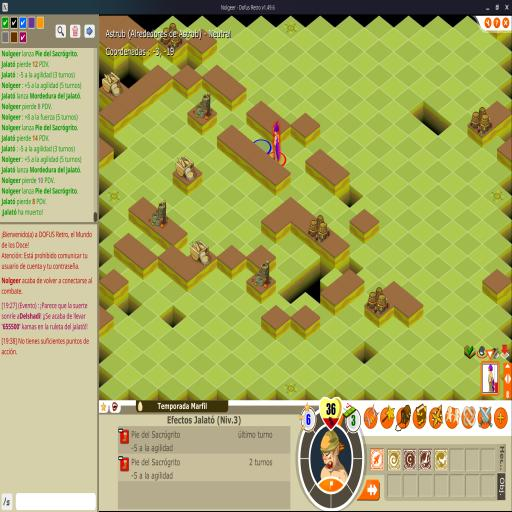Personaje: (272, 121, 282, 161)
